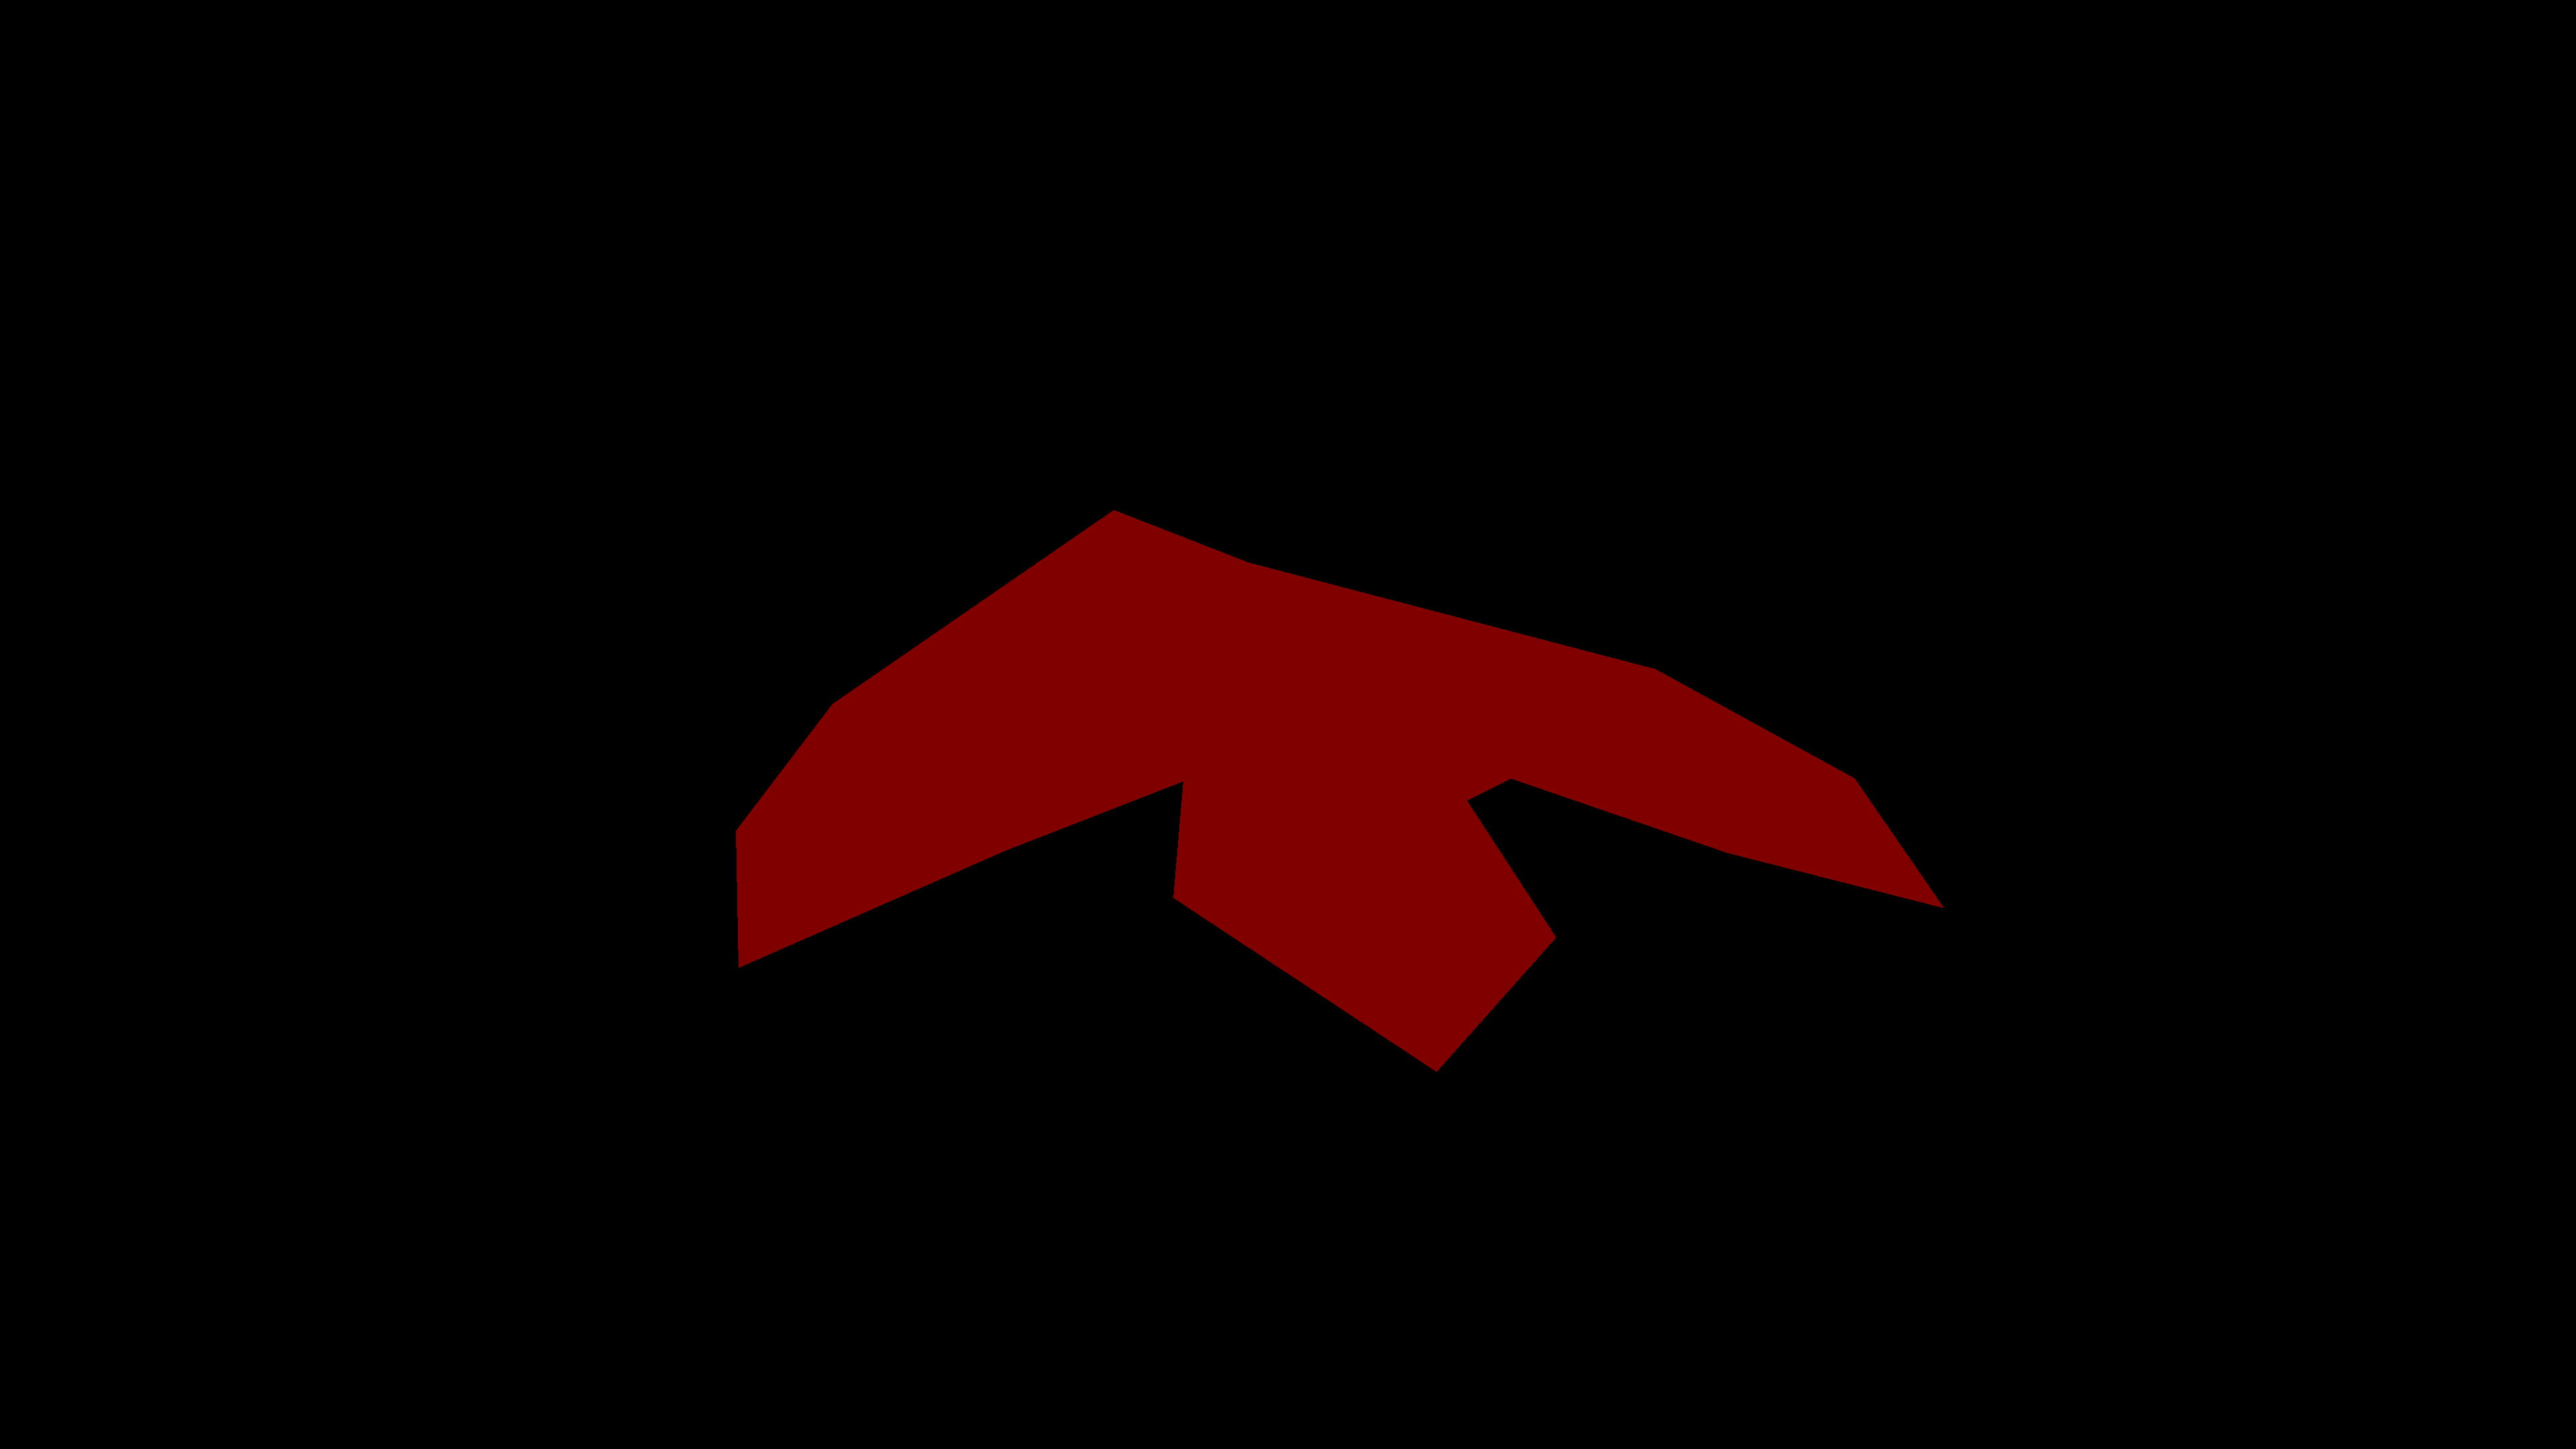fire: (736, 510, 1943, 1072)
